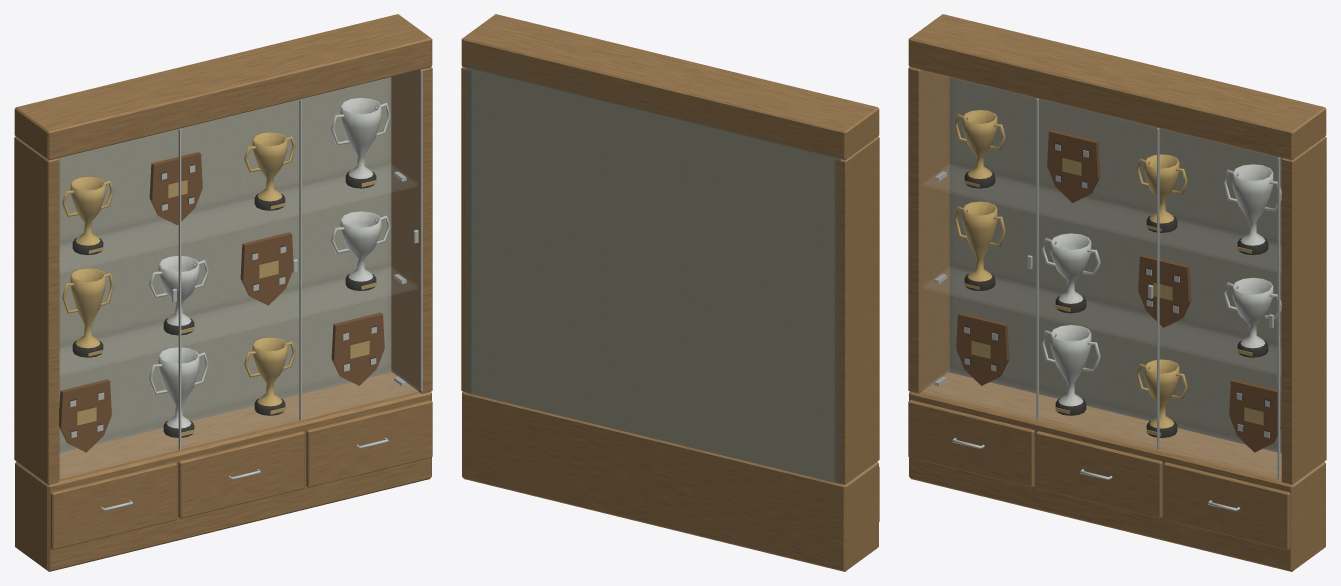
The model's file is school_trophy_case.glb.
3 views of the same model, side by side, from view 1: azimuth 30°, elevation 25°; view 2: azimuth 150°, elevation 25°; view 3: azimuth 330°, elevation 25° (orthographic).
Parts seen in each view (by area): view 1: school_trophy_case_Body, TrophyCaseGlass; view 2: school_trophy_case_Body; view 3: school_trophy_case_Body, TrophyCaseGlass.
Part boxes in pixels (x1,y1,x2,y2): school_trophy_case_Body: (14,14,432,571); TrophyCaseGlass: (60,163,417,477); school_trophy_case_Body: (461,14,879,571); school_trophy_case_Body: (908,14,1326,571); TrophyCaseGlass: (923,163,1280,477).
Size of the model in its own units: 2.2 by 2.41 by 0.4009.
3 materials, 1 textured.
